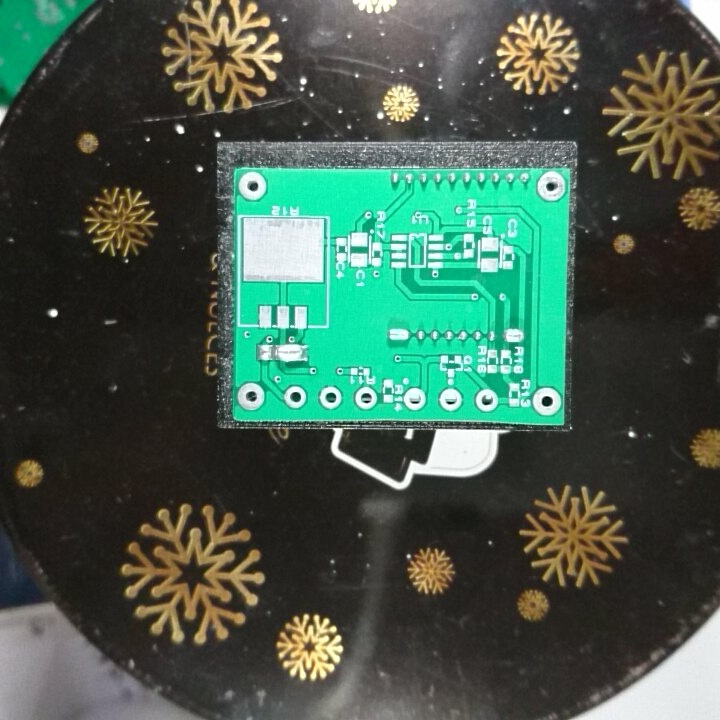F: (534, 169, 568, 203), (237, 170, 270, 204), (235, 381, 267, 412), (531, 386, 562, 418), (316, 384, 345, 412), (402, 385, 428, 413), (282, 383, 308, 410), (437, 387, 464, 413), (352, 384, 378, 410), (474, 387, 499, 412)
P: (273, 342, 308, 365), (500, 327, 526, 346), (386, 325, 411, 343)
